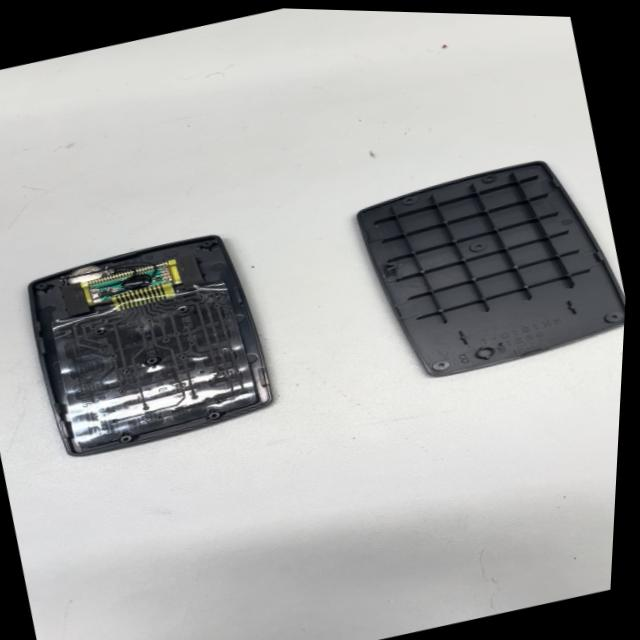back_cover: (324, 136, 633, 398)
front_panel: (2, 213, 295, 474)
